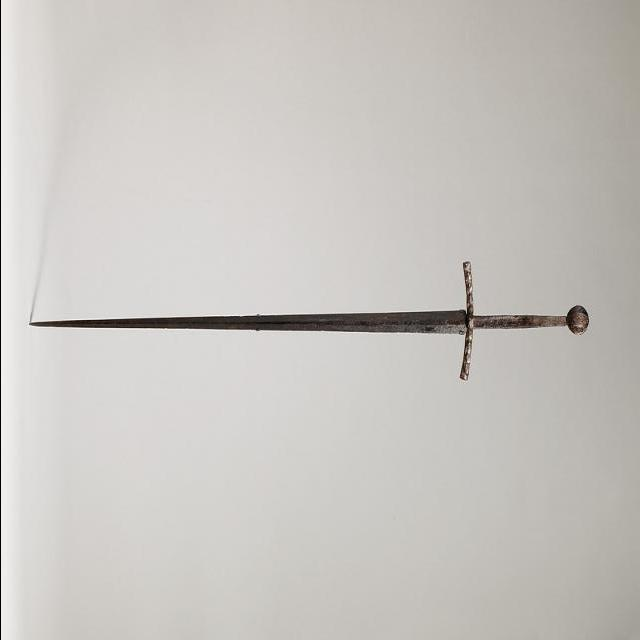sword: (29, 257, 589, 386)
